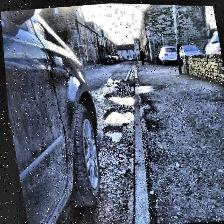pothole: (98, 103, 134, 127), (100, 89, 134, 107), (97, 122, 122, 144)
